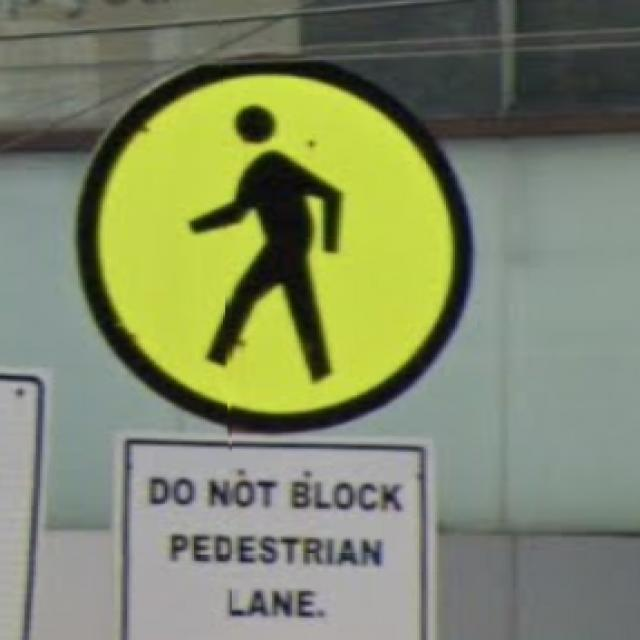pedestrian crossing: (71, 49, 473, 428)
